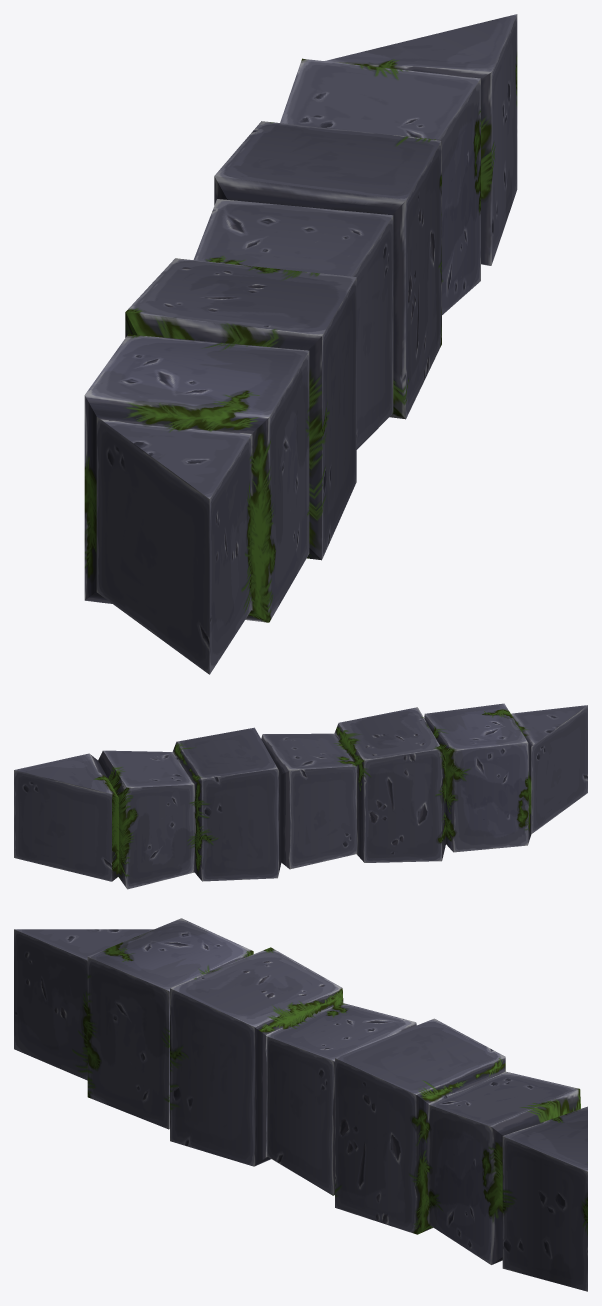
Rendered from MOD_WallCover_01_E_angle_2_2.fbx.
3 views of the same model, one above another, from view 1: azimuth 30°, elevation 25°; view 2: azimuth 150°, elevation 25°; view 3: azimuth 270°, elevation 25° (orthographic). The views are drawn at different scales.
Visible parts, largest first — view 1: MOD_WallCover_01_E_angle_2_2; view 2: MOD_WallCover_01_E_angle_2_2; view 3: MOD_WallCover_01_E_angle_2_2.
Part boxes in pixels (x1=…): MOD_WallCover_01_E_angle_2_2: x1=84, y1=14, x2=517, y2=674; MOD_WallCover_01_E_angle_2_2: x1=14, y1=703, x2=587, y2=889; MOD_WallCover_01_E_angle_2_2: x1=14, y1=918, x2=587, y2=1291.
Size of the model in its own units: 261 by 76.45 by 260.
